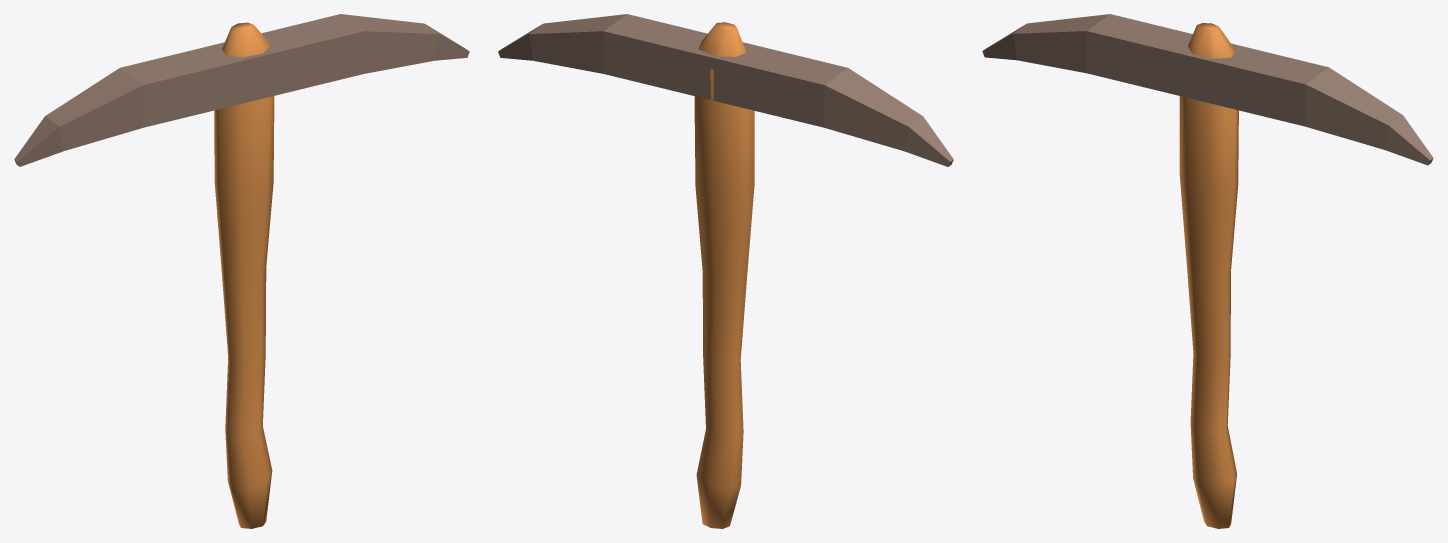
The model's file is IronPickAxe.fbx.
3 renders of one model, left to right at view 1: azimuth 30°, elevation 25°; view 2: azimuth 150°, elevation 25°; view 3: azimuth 330°, elevation 25°, orthographic.
Parts seen in each view (by area): view 1: Cube, Cylinder; view 2: Cube, Cylinder; view 3: Cube, Cylinder.
Boxes of the visible parts, left/top/right/bottom form: Cube: left=14, top=14, right=469, bottom=166; Cylinder: left=214, top=22, right=274, bottom=528; Cube: left=498, top=14, right=953, bottom=166; Cylinder: left=694, top=22, right=754, bottom=528; Cube: left=982, top=14, right=1433, bottom=165; Cylinder: left=1179, top=23, right=1238, bottom=528.
Bounding box in the file's own units: 1776 × 1876 × 163.
